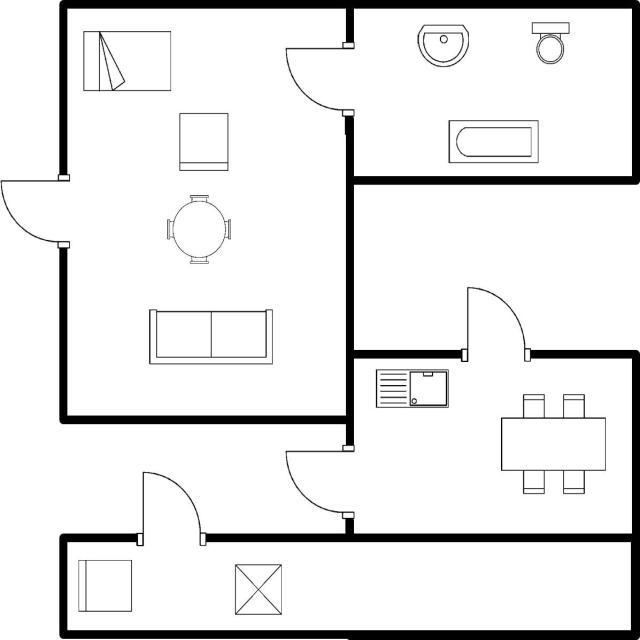bed: (78, 27, 176, 95)
coffee_table: (229, 560, 285, 618)
dining_table: (495, 388, 610, 498)
large_sink: (526, 18, 572, 66)
large_sofa: (144, 303, 276, 370)
round_table: (160, 188, 236, 268)
sink: (372, 364, 452, 412)
small_sink: (412, 19, 474, 72)
small_sofa: (74, 554, 136, 616), (174, 108, 230, 176)
tub: (442, 115, 542, 169)
